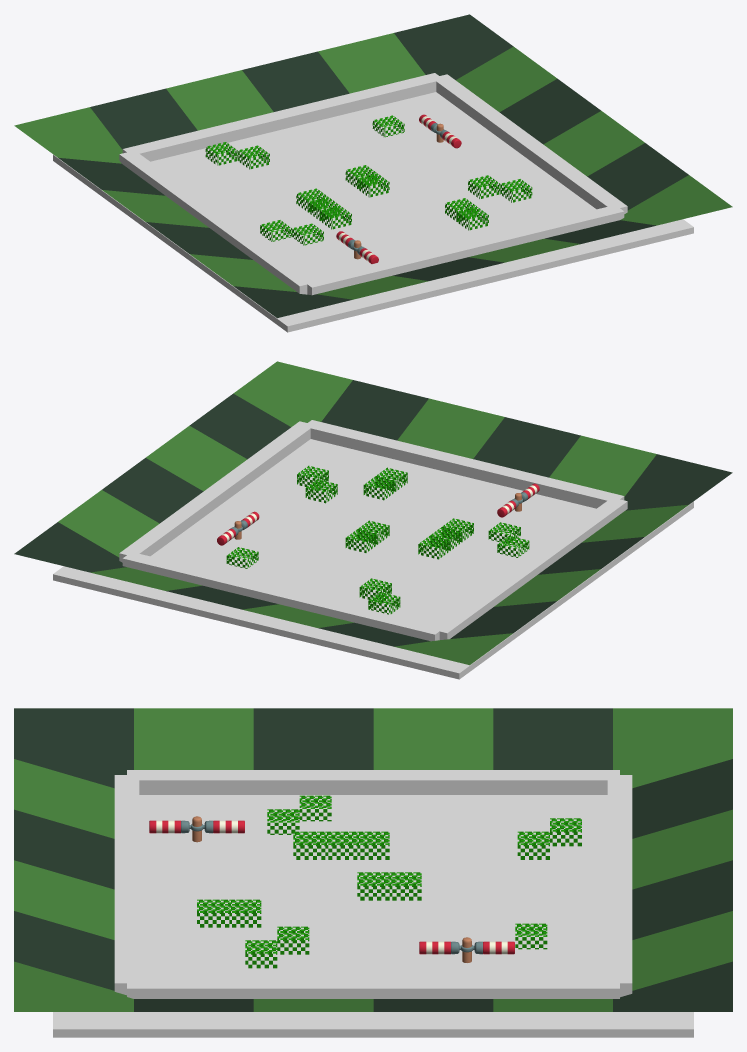
3 renders of one model, top to bottom at view 1: azimuth 30°, elevation 25°; view 2: azimuth 150°, elevation 25°; view 3: azimuth 270°, elevation 25°, orthographic. The views are drawn at different scales.
Parts seen in each view (by area): view 1: floor.vis, floor.phys.hidden, wall.phys.002.hidden, wall.phys.003.hidden, wall.phys.000.hidden, wall.phys.001.hidden; view 2: floor.vis, floor.phys.hidden, wall.phys.003.hidden, wall.phys.002.hidden, wall.phys.000.hidden, wall.phys.001.hidden; view 3: floor.vis, floor.phys.hidden, wall.phys.001.hidden, wall.phys.000.hidden, wall.phys.002.hidden, wall.phys.003.hidden, phys-dynamic-motor-y, phys-dynamic-motor-y.001, Cube.003, Cube.010, Cube, Cube.011 (+10 smaller).
Part boxes in pixels (box(x1,y1,x2,y2)): floor.vis: box(14, 14, 732, 318); floor.phys.hidden: box(53, 92, 693, 332); wall.phys.002.hidden: box(122, 73, 441, 161); wall.phys.003.hidden: box(303, 207, 624, 295); wall.phys.000.hidden: box(432, 74, 627, 213); wall.phys.001.hidden: box(119, 150, 312, 294); floor.vis: box(14, 361, 732, 665); floor.phys.hidden: box(53, 439, 693, 679); wall.phys.003.hidden: box(304, 420, 624, 508); wall.phys.002.hidden: box(122, 554, 443, 641); wall.phys.000.hidden: box(119, 421, 314, 562); wall.phys.001.hidden: box(432, 497, 627, 639); floor.vis: box(14, 708, 732, 1011); floor.phys.hidden: box(53, 795, 693, 1037); wall.phys.001.hidden: box(127, 770, 619, 794); wall.phys.000.hidden: box(127, 978, 619, 998); wall.phys.002.hidden: box(607, 775, 632, 997); wall.phys.003.hidden: box(114, 775, 139, 995); phys-dynamic-motor-y: box(419, 941, 514, 954); phys-dynamic-motor-y.001: box(149, 820, 244, 833); Cube.003: box(357, 831, 389, 859); Cube.010: box(517, 831, 549, 859); Cube: box(357, 872, 389, 900); Cube.011: box(389, 872, 421, 900).
Size of the model in its own units: 44.85 by 3.49 by 44.85.
Materials: 4 (2 with a texture image).
